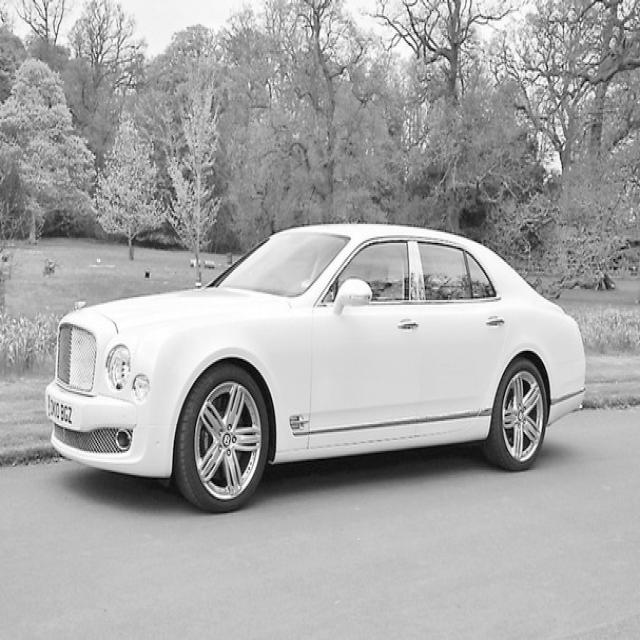car: (44, 221, 586, 513)
plat_license: (43, 392, 78, 428)
